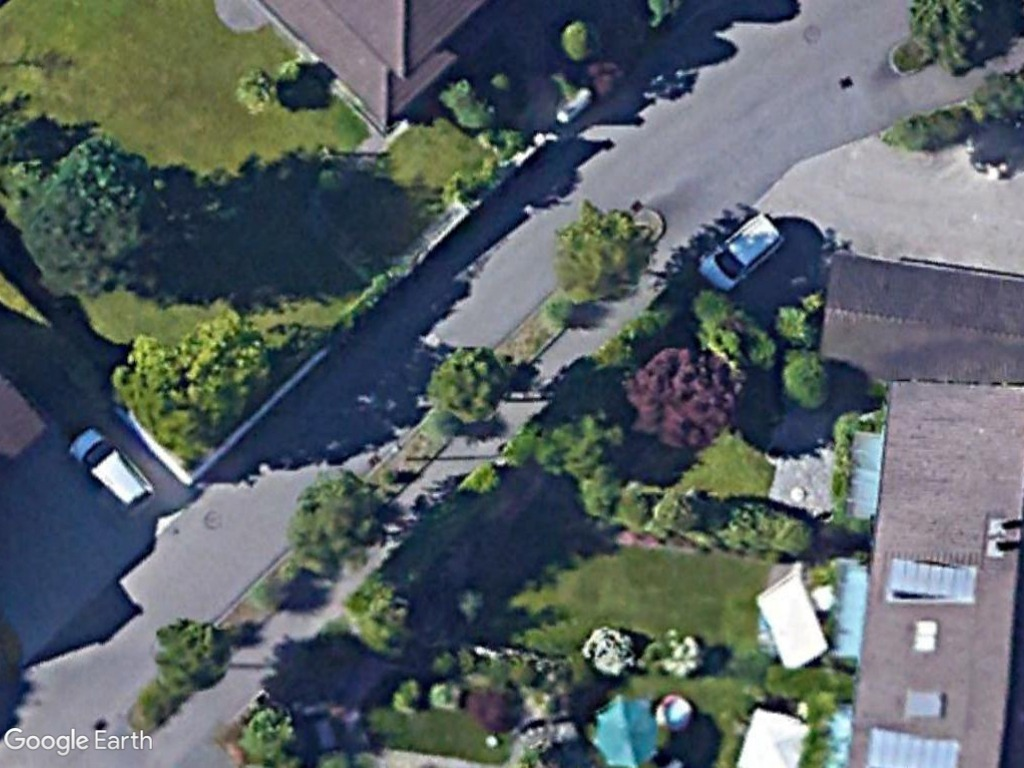car: (66, 424, 157, 517), (696, 208, 786, 293)
